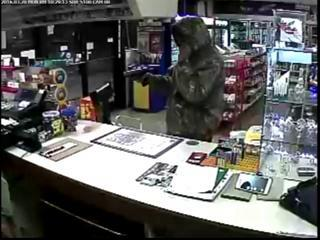criminal: (121, 16, 226, 141)
weapon: (122, 65, 150, 87)
